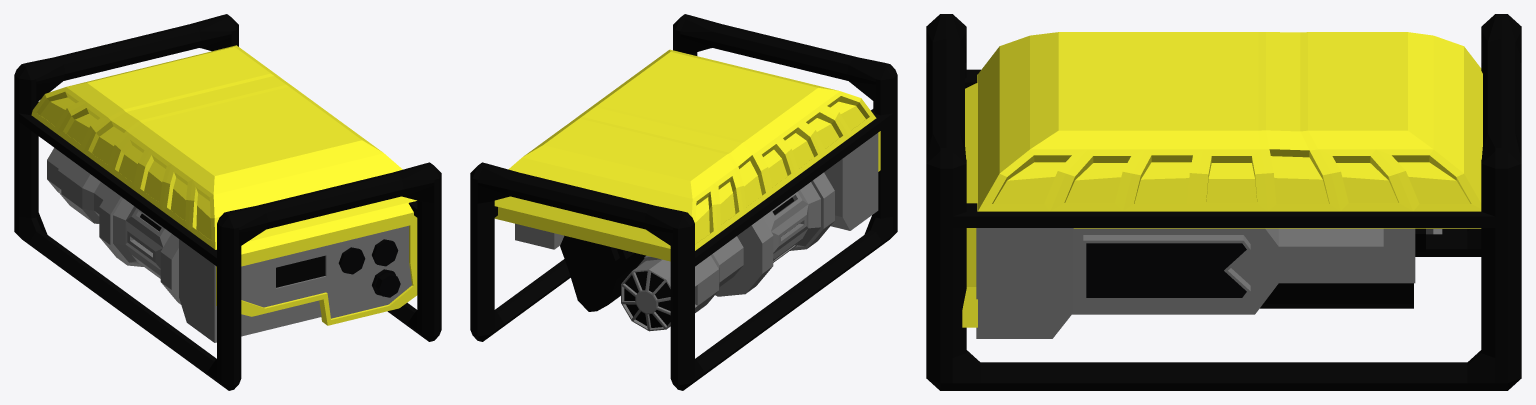
File: generateur.fbx
3 renders of one model, left to right at view 1: azimuth 30°, elevation 25°; view 2: azimuth 150°, elevation 25°; view 3: azimuth 270°, elevation 25°, orthographic. The views are drawn at different scales.
Parts seen in each view (by area): view 1: Cube; view 2: Cube; view 3: Cube.
Part boxes in pixels (x1,y1,x2,y2): Cube: [14, 14, 441, 390]; Cube: [470, 14, 897, 390]; Cube: [926, 14, 1521, 390].
Bounding box in the file's own units: 461 × 352 × 788.
1 material, 1 textured.
